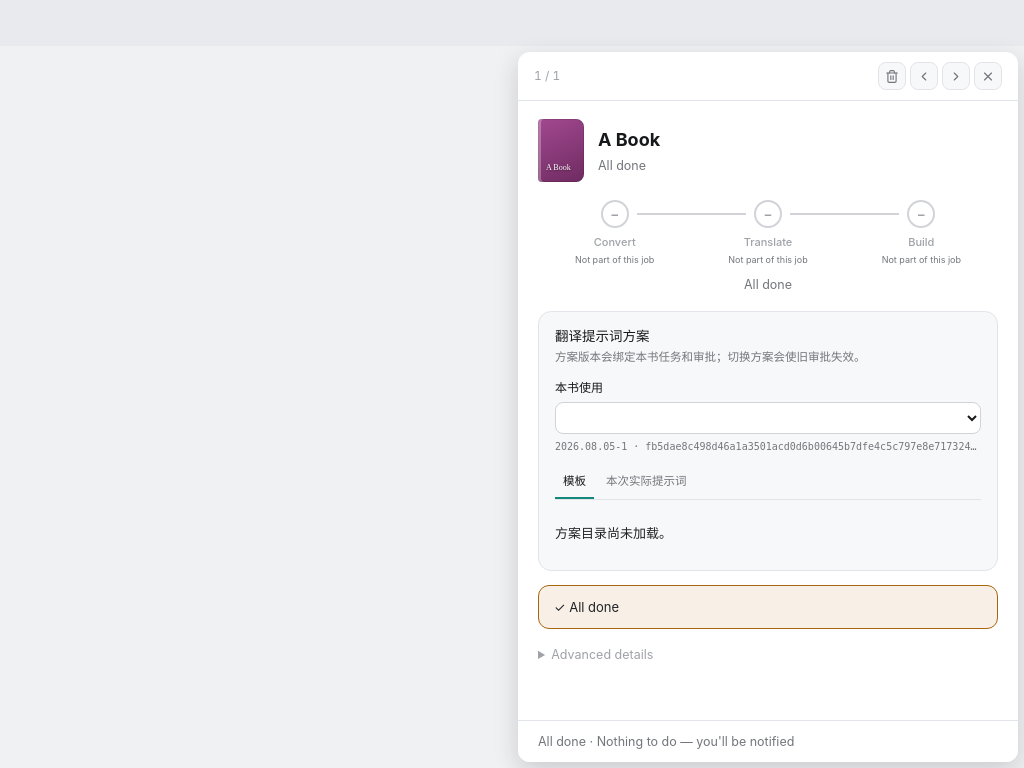
it: BookDrawer gate card › keeps the single-book wording when the job holds one book
Click the button named "Remove from shelf". click: [892, 76]
box: [878,62,906,90]
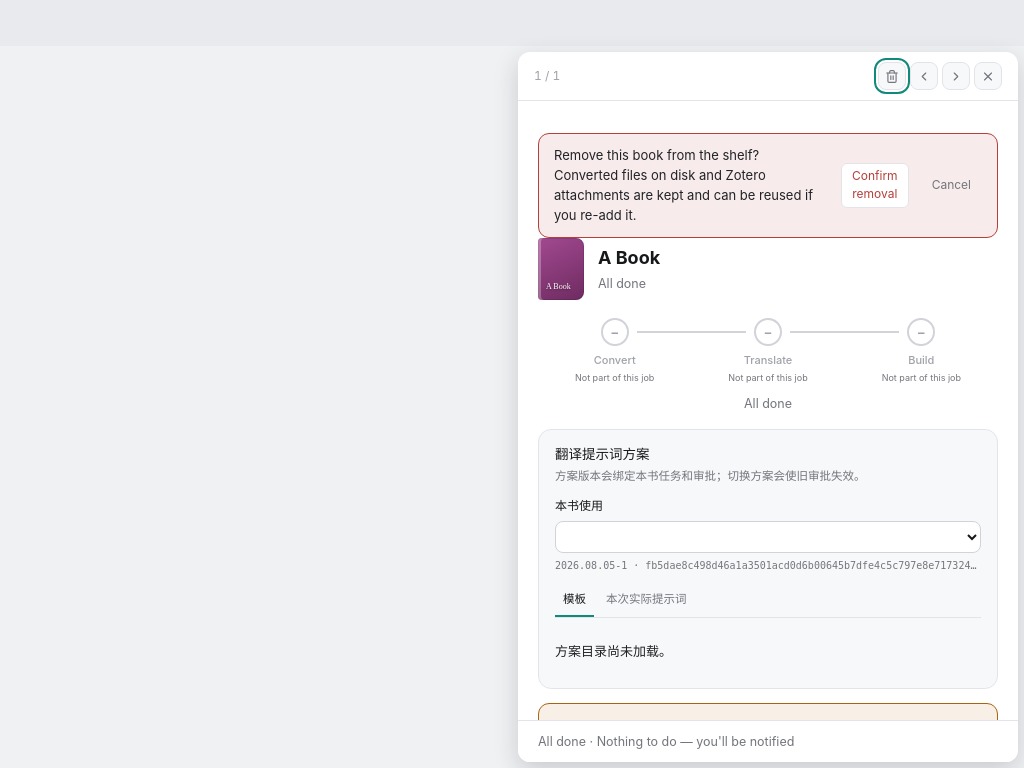
Expected: the text "Remove this book from the shelf? Converted files on disk and Zotero attachments are kept and can be reused if you re-add" is shown, [554,147,813,223]
Expected: the button "Confirm removal" is shown, [841,163,909,208]
